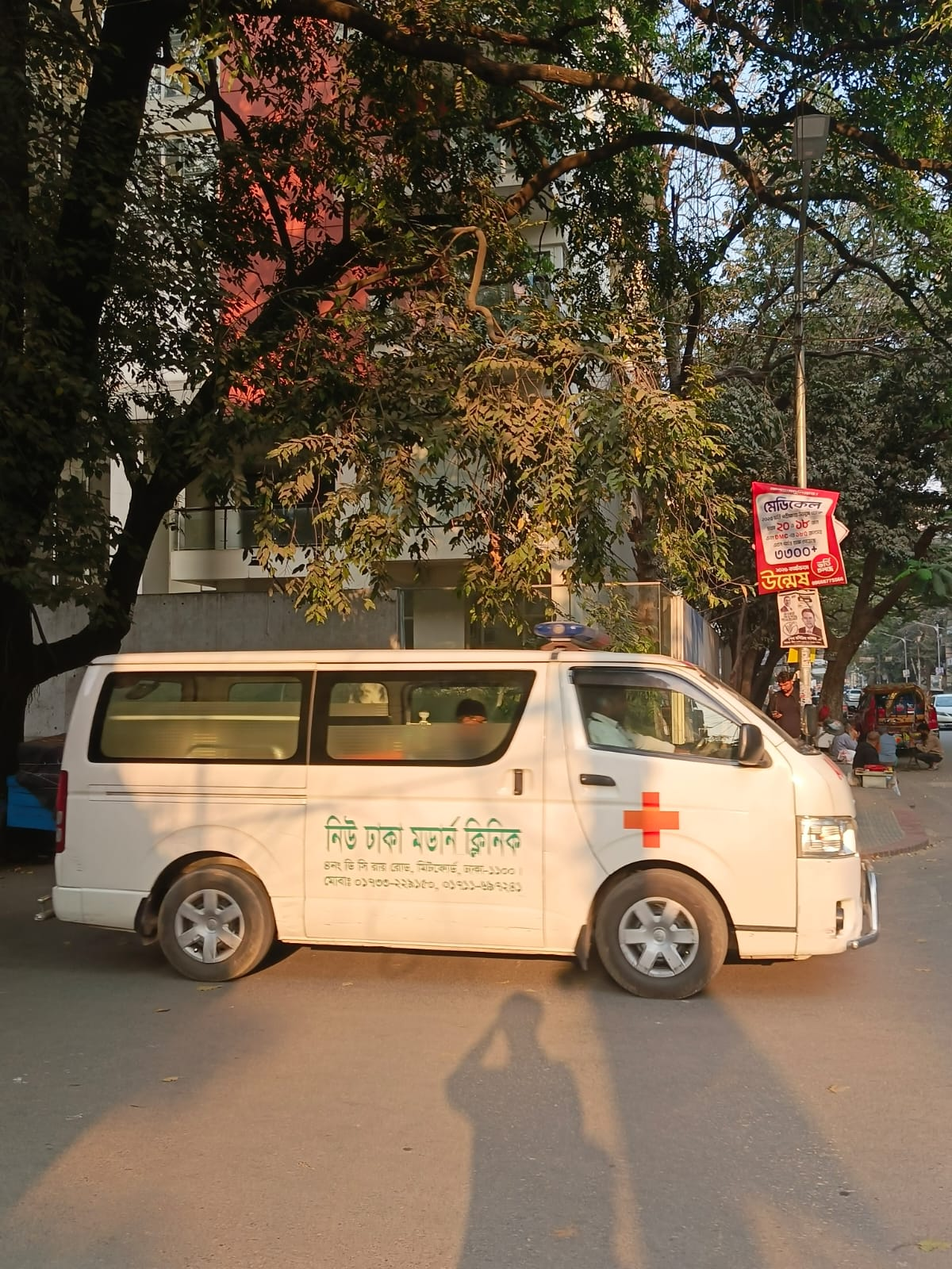Ambulance: (37, 630, 893, 1105)
